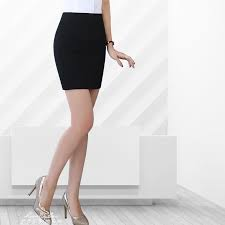F_tailored skirt: (50, 8, 109, 96)
